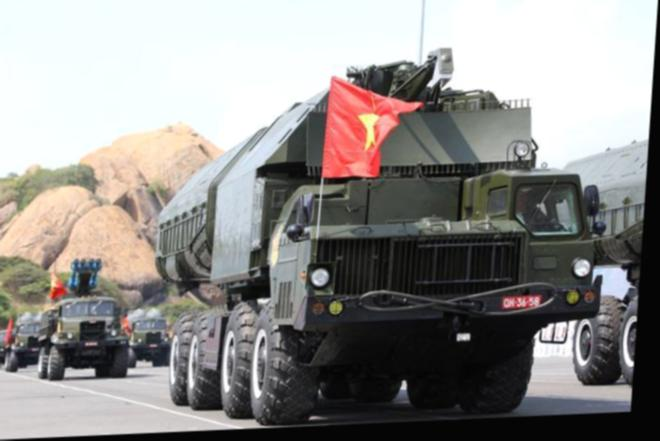License_Plate: (501, 293, 543, 311), (82, 340, 100, 351)
